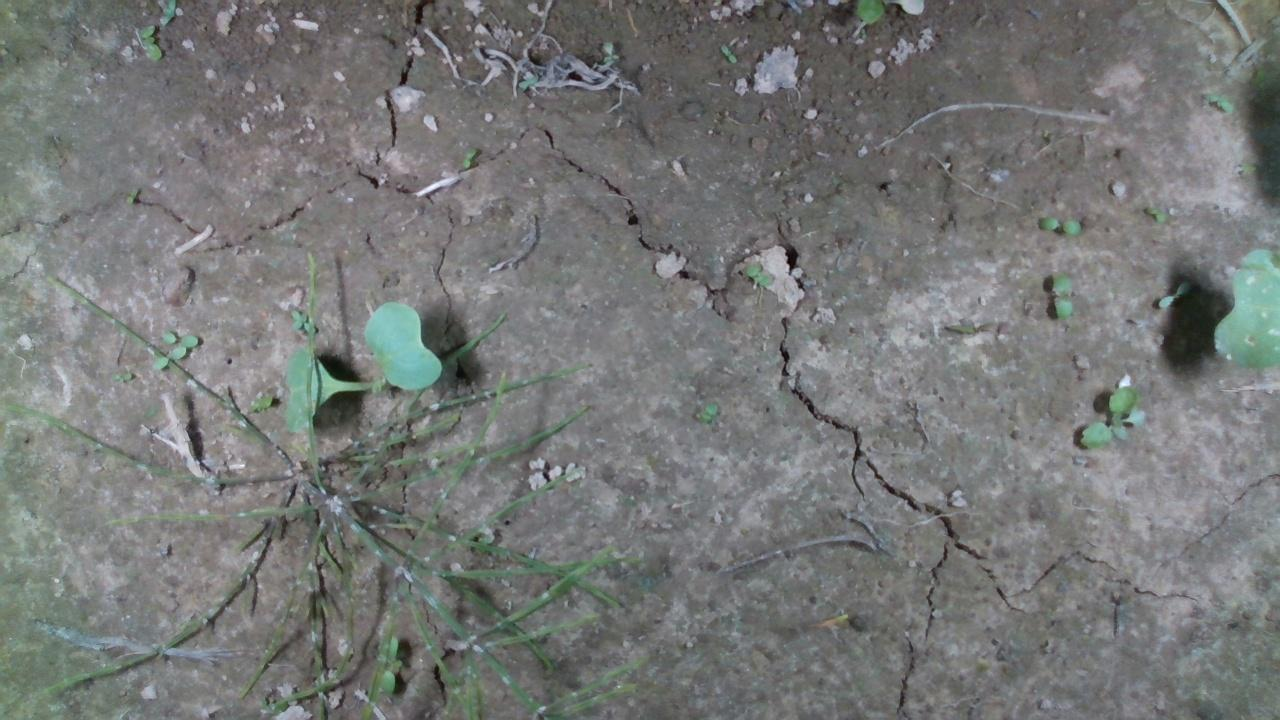weed: (1076, 383, 1147, 451), (1048, 270, 1074, 320), (1154, 277, 1192, 310), (135, 24, 163, 60), (1036, 215, 1081, 237), (743, 260, 774, 286), (1201, 89, 1234, 113), (692, 400, 719, 423), (458, 143, 478, 169), (1143, 205, 1167, 224), (718, 42, 737, 64)
